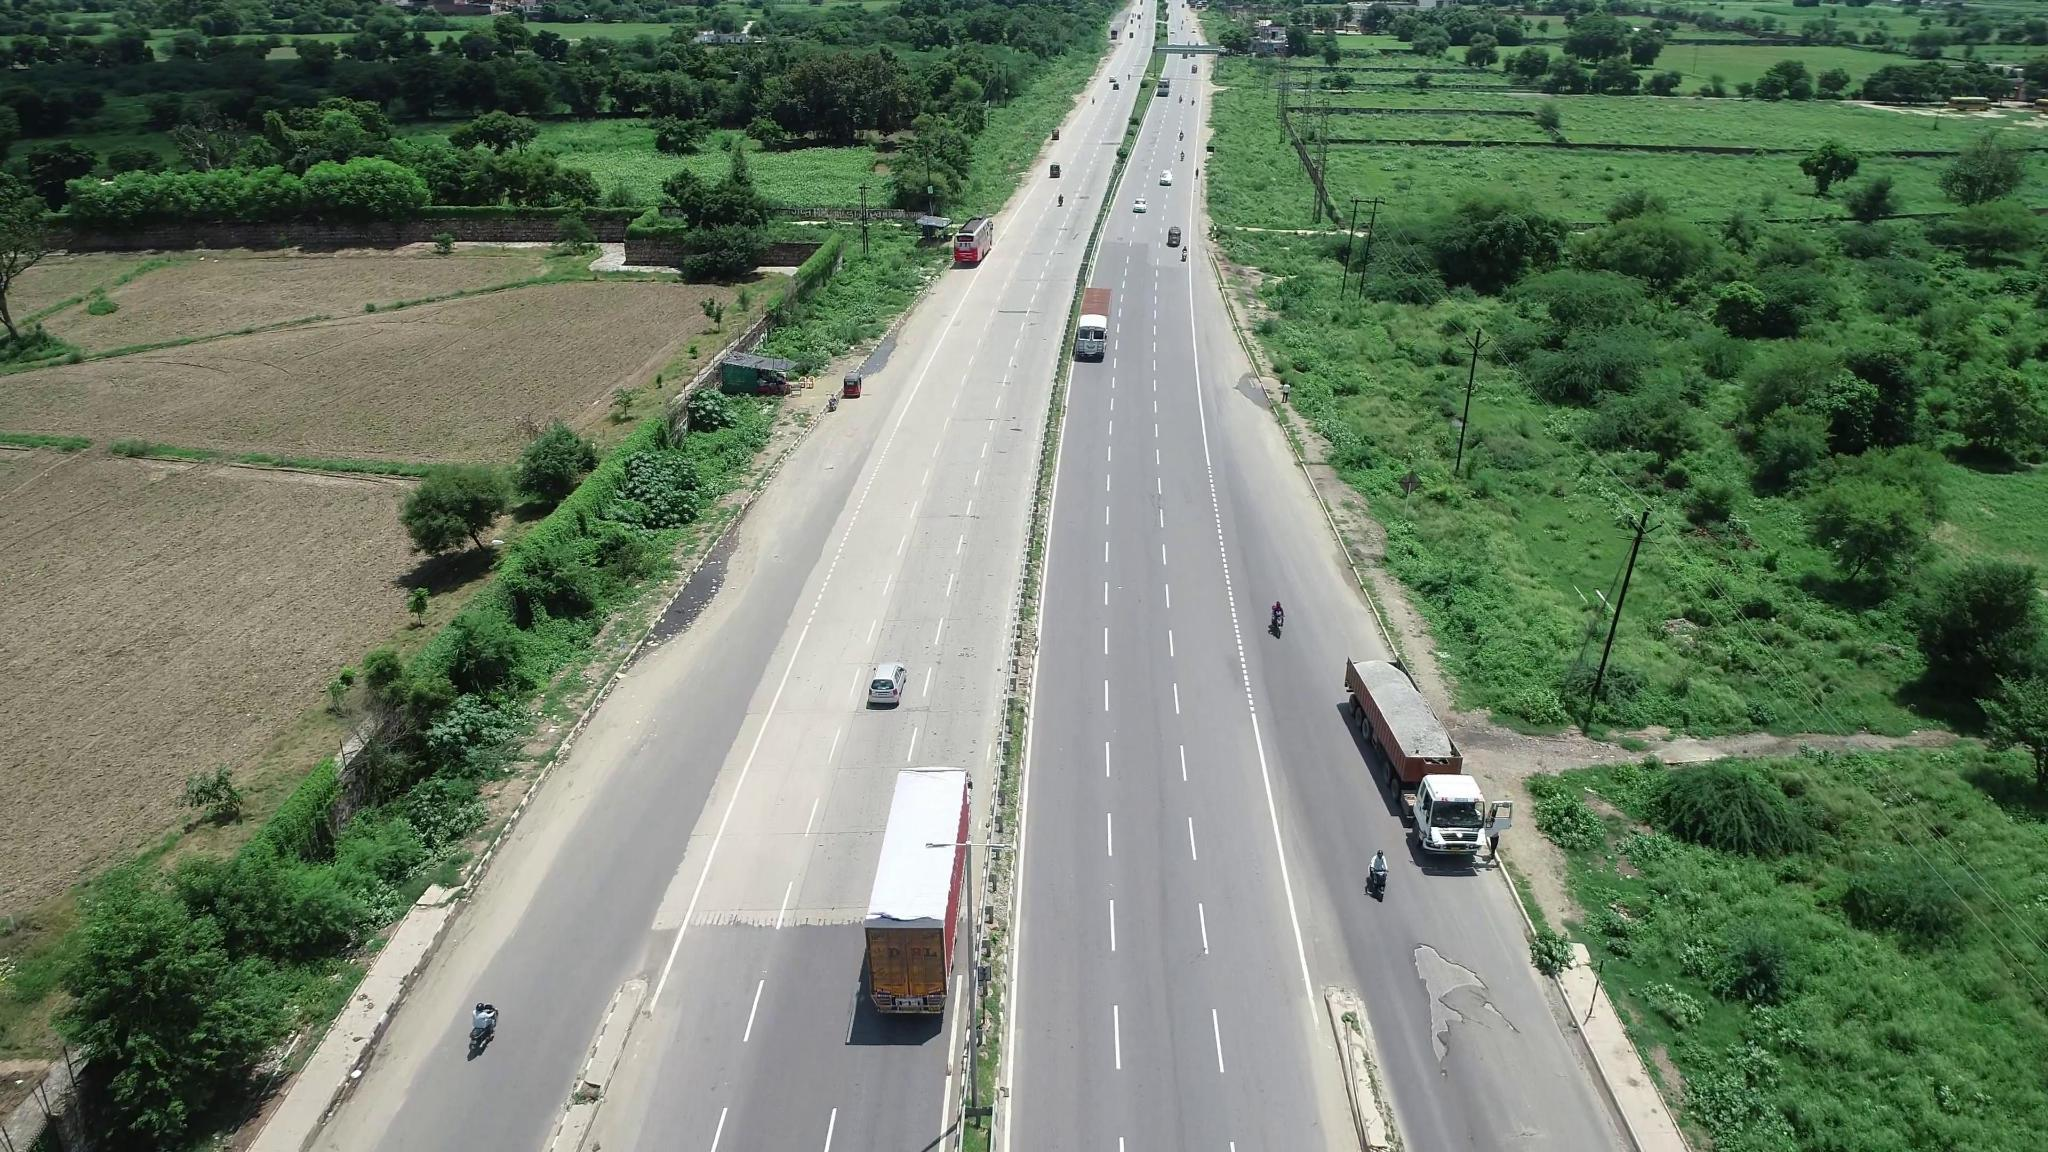Potholes: (1398, 927, 1521, 1075)
